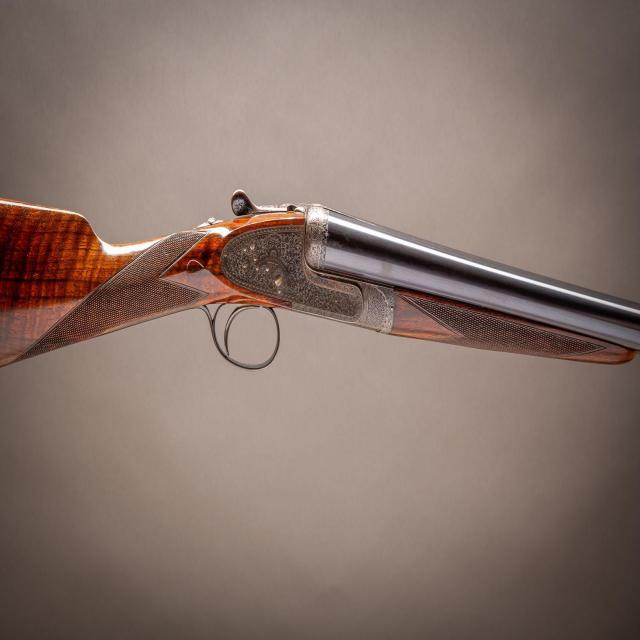weapon: (2, 158, 640, 405)
